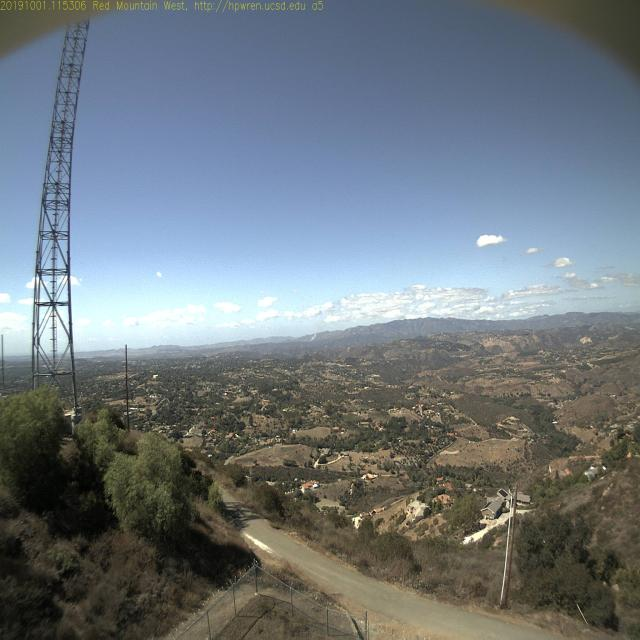smoke: (304, 329, 318, 344)
